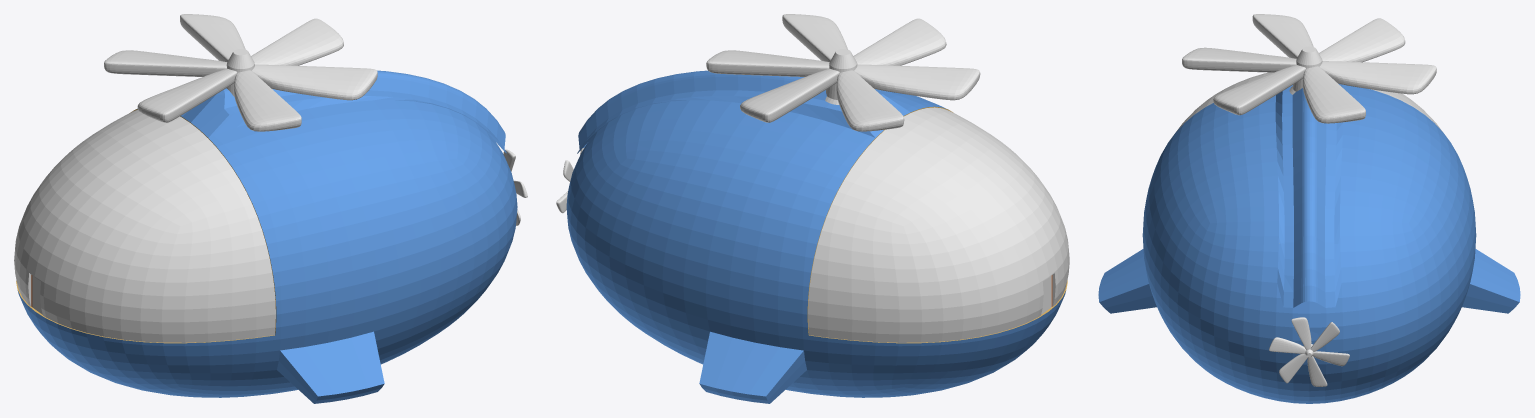
File: 1.1飞船（顶分开）.fbx
3 views of the same model, side by side, from view 1: azimuth 30°, elevation 25°; view 2: azimuth 150°, elevation 25°; view 3: azimuth 270°, elevation 25° (orthographic). The views are drawn at different scales.
Parts seen in each view (by area): view 1: 立方体.004, 立方体.002, 立方体.001, 立方体.020, 立方体.021, 立方体.019, 立方体.017, 立方体.022, 立方体.018, 柱体.001; view 2: 立方体.004, 立方体.002, 立方体.001, 立方体.022, 立方体.017, 立方体.021, 立方体.019, 立方体.018, 立方体.020, 柱体.001; view 3: 立方体.004, 立方体.001, 立方体.018, 立方体.019, 立方体.017, 立方体.021, 立方体.020, 立方体.022, 立方体.002, 柱体.001, 立方体.015, 立方体.014 (+4 smaller).
Boxes of the visible parts, bbox=[...] form: 立方体.004: bbox=[16, 104, 517, 403]; 立方体.002: bbox=[14, 109, 275, 342]; 立方体.001: bbox=[180, 70, 481, 158]; 立方体.020: bbox=[252, 64, 377, 100]; 立方体.021: bbox=[234, 70, 301, 131]; 立方体.019: bbox=[251, 18, 343, 65]; 立方体.017: bbox=[104, 50, 227, 76]; 立方体.022: bbox=[137, 68, 237, 122]; 立方体.018: bbox=[180, 14, 245, 61]; 柱体.001: bbox=[226, 49, 254, 96]; 立方体.004: bbox=[566, 93, 1067, 403]; 立方体.002: bbox=[808, 107, 1069, 342]; 立方体.001: bbox=[602, 70, 913, 159]; 立方体.022: bbox=[854, 64, 980, 100]; 立方体.017: bbox=[836, 70, 904, 131]; 立方体.021: bbox=[853, 18, 946, 65]; 立方体.019: bbox=[706, 50, 829, 76]; 立方体.018: bbox=[740, 68, 839, 122]; 立方体.020: bbox=[782, 14, 847, 61]; 柱体.001: bbox=[825, 49, 857, 104]; 立方体.004: bbox=[1098, 87, 1520, 403]; 立方体.001: bbox=[1204, 83, 1414, 261]; 立方体.018: bbox=[1319, 61, 1436, 94]; 立方体.019: bbox=[1303, 66, 1365, 123]; 立方体.017: bbox=[1319, 18, 1405, 62]; 立方体.021: bbox=[1182, 47, 1296, 72]; 立方体.020: bbox=[1213, 65, 1305, 115]; 立方体.022: bbox=[1252, 14, 1313, 58]; 立方体.002: bbox=[1176, 72, 1442, 131]; 柱体.001: bbox=[1289, 46, 1322, 94]; 立方体.015: bbox=[1269, 337, 1306, 354]; 立方体.014: bbox=[1279, 354, 1307, 383].
Size of the model in its own units: 4605 by 2985 by 3796.
